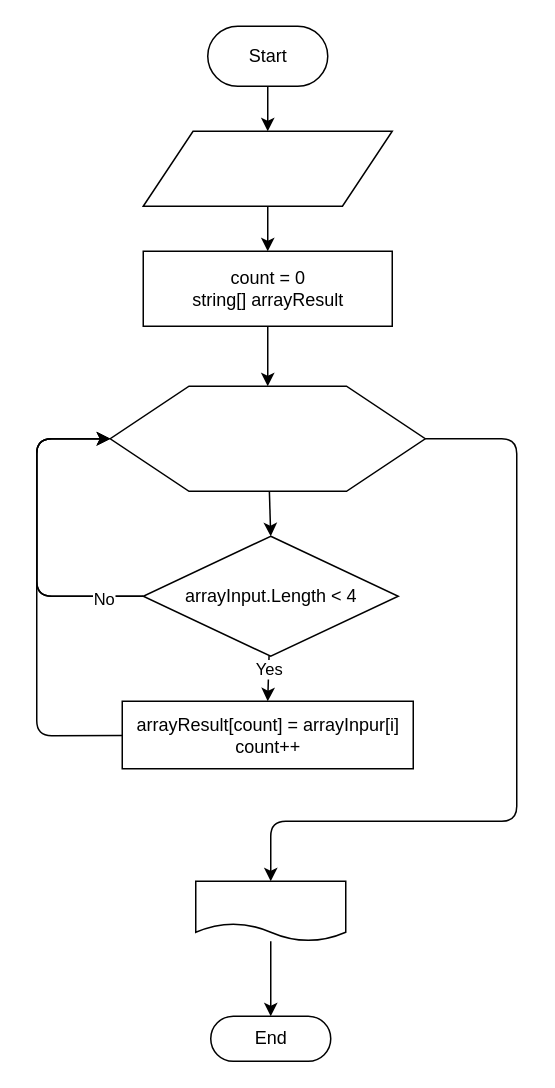
The diagram is 555 pixels wide and 1088 high, and some of its shapes have lost their labels. Each missing label, with the box of its shape:
arrayResult: (194, 880, 346, 941)
i=0, arrayInput.Length, i++: (109, 385, 425, 491)
string[] arrayInput: (142, 130, 392, 206)
